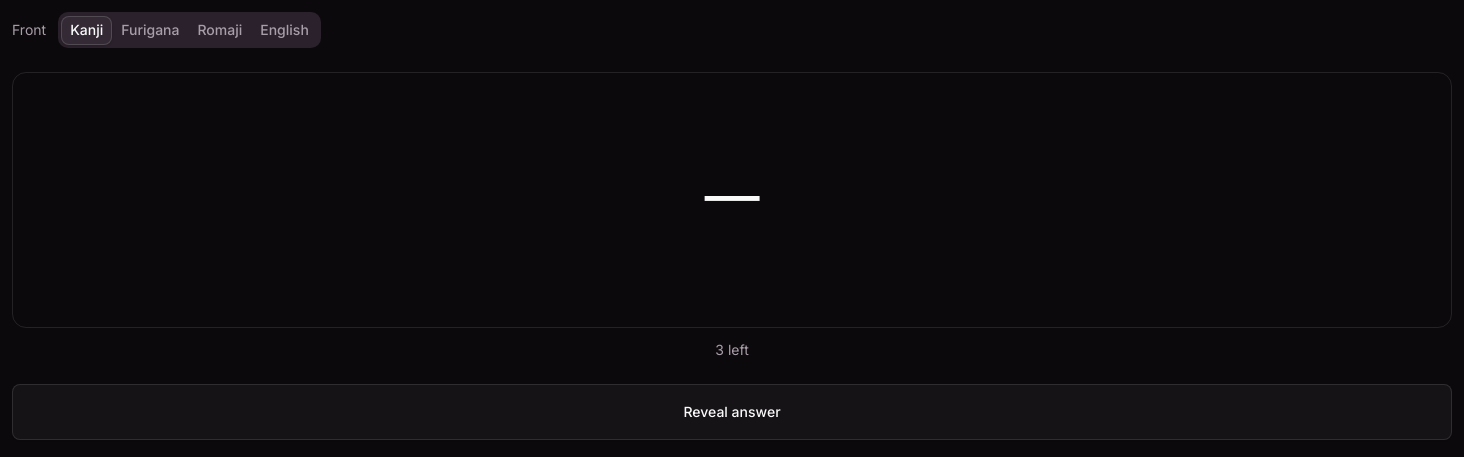
Scenario: Flashcards › grading › records the answer and drops the card from the session
Click the button "Reveal answer": (732, 412) 12,384 -> 1452,440
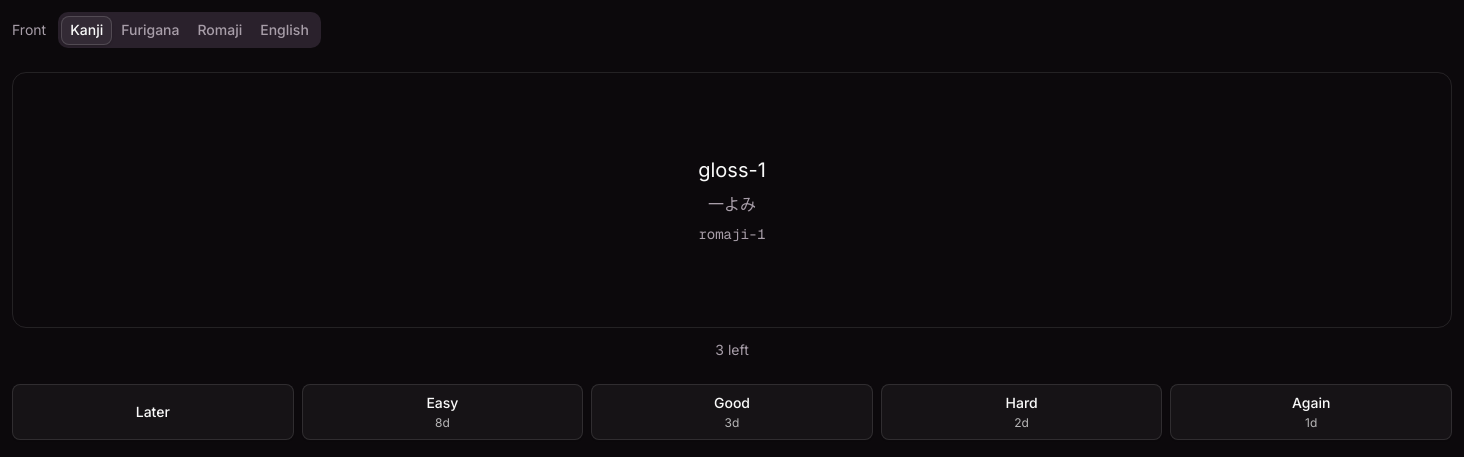
Click the button "Good 3d": (732, 412) 591,384 -> 873,440
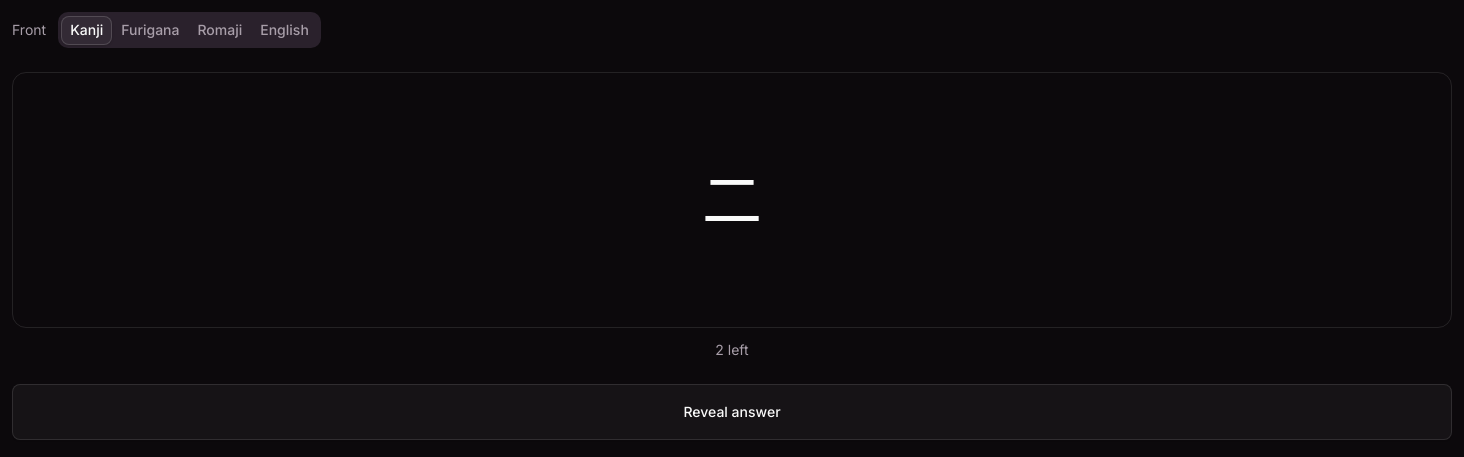
Check: the text "2 left" is shown, box 715,341 -> 749,358
